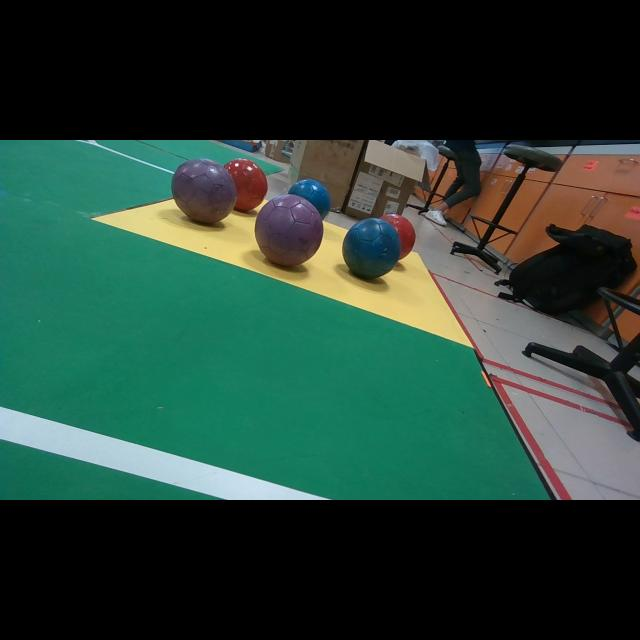B: (342, 218, 401, 279), (289, 179, 331, 218)
P: (255, 194, 324, 266), (171, 159, 238, 223)
R: (225, 159, 268, 211), (380, 215, 416, 258)
